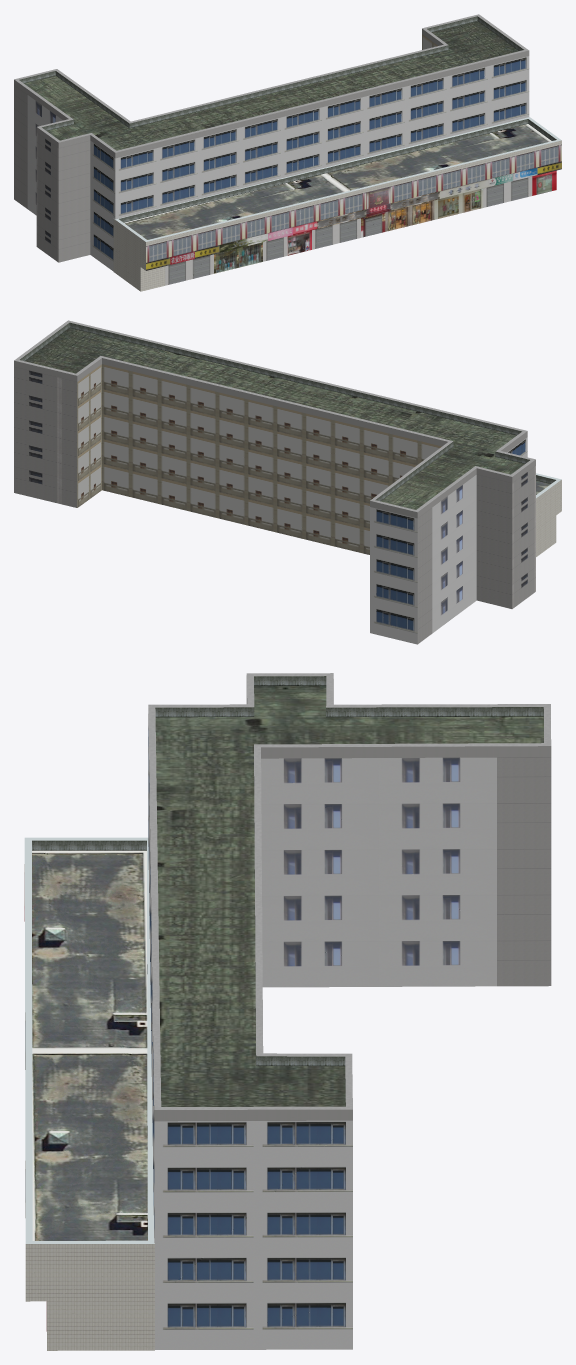
3 views of the same model, one above another, from view 1: azimuth 30°, elevation 25°; view 2: azimuth 150°, elevation 25°; view 3: azimuth 270°, elevation 25° (orthographic). The views are drawn at different scales.
Visible parts, largest first — view 1: jz11; view 2: jz11; view 3: jz11.
Part boxes in pixels (x1,y1,x2,y2): jz11: (14,14,561,291); jz11: (14,320,561,644); jz11: (24,673,551,1350).
Bounding box in the file's own units: 5864 × 1501 × 2981.
Materials: 31 (31 with a texture image).
